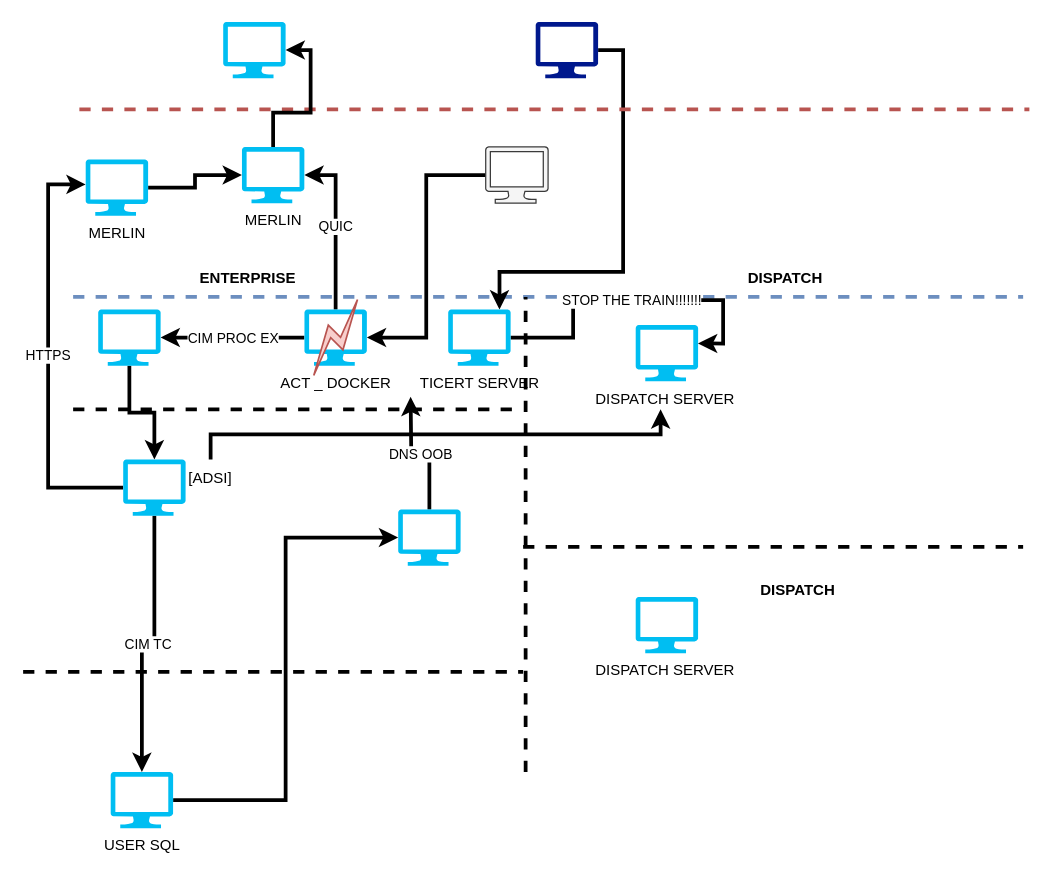
This 1054x875 diagram has some shape labels left out. Each missing label, with the centre of its shape:
"CIM/WSL/CS<C#SHELL" belongs at (153,487).
"DMZ WINDOS" belongs at (129,337).
"SQL SERVER" belongs at (429,537).
